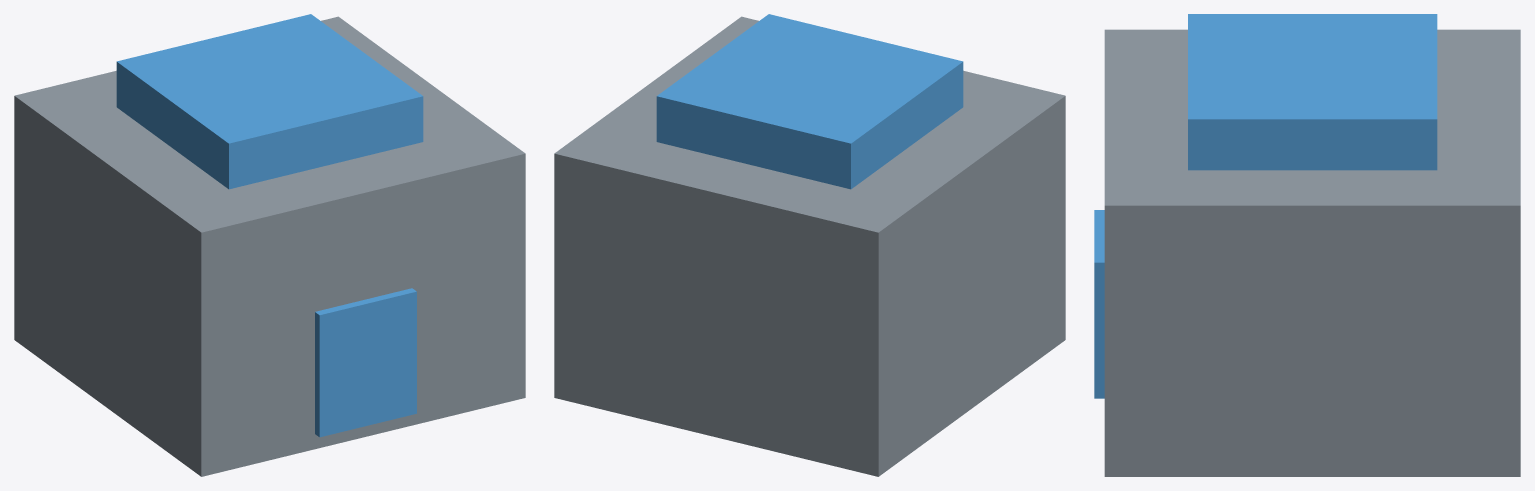
File: SM_Alliance_AL_AATurret_Blockout.fbx
The picture shows the model from 3 angles, left to right: view 1: azimuth 30°, elevation 25°; view 2: azimuth 150°, elevation 25°; view 3: azimuth 270°, elevation 25°; orthographic projection. The views are drawn at different scales.
Parts seen in each view (by area): view 1: MainBuilding, RoofStructure, EntranceGate; view 2: MainBuilding, RoofStructure; view 3: MainBuilding, RoofStructure, EntranceGate.
Boxes of the visible parts, box(x1,y1,x2,y2) form: MainBuilding: box(14, 16, 525, 476); RoofStructure: box(116, 14, 423, 189); EntranceGate: box(315, 288, 416, 437); MainBuilding: box(554, 16, 1065, 476); RoofStructure: box(656, 14, 963, 189); MainBuilding: box(1104, 29, 1520, 476); RoofStructure: box(1188, 14, 1437, 170); EntranceGate: box(1094, 210, 1104, 398).
Bounding box in the file's own units: 400 × 342 × 410.
